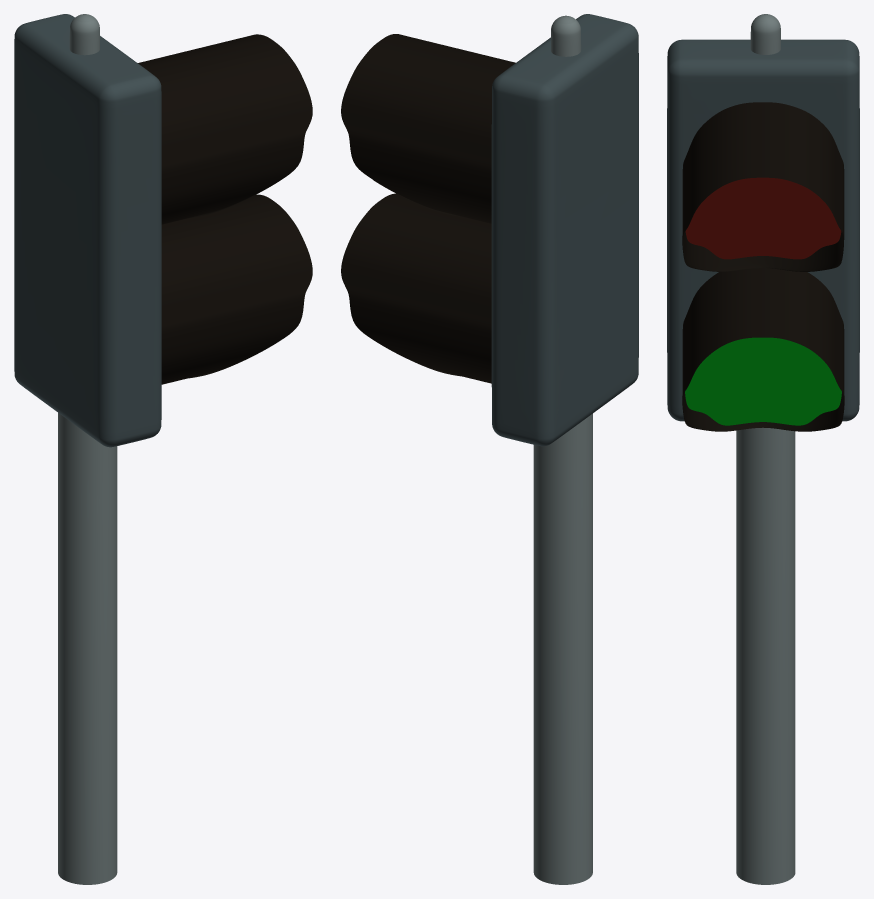
File: bicolor.obj
3 views of the same model, side by side, from view 1: azimuth 30°, elevation 25°; view 2: azimuth 150°, elevation 25°; view 3: azimuth 270°, elevation 25° (orthographic).
Parts seen in each view (by area): view 1: base; view 2: base; view 3: base, greenpane, redpane.
Boxes of the visible parts, x1,y1,x2,y2 form: base: (14,14,312,884); base: (341,14,638,884); base: (667,14,859,884); greenpane: (685,337,841,425); redpane: (685,177,841,259).
Bounding box in the file's own units: 0.5205 × 1.94 × 0.3958.
Materials: 1 (1 with a texture image).
